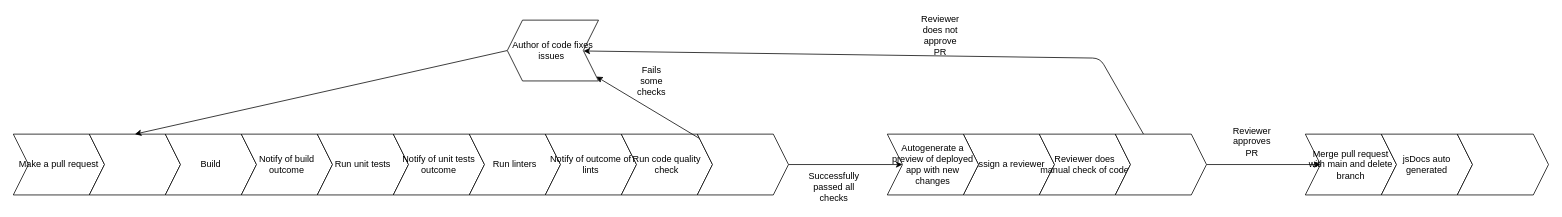
The diagram is 1562 pixels wide and 217 high, and some of its shapes have lost their labels. The centre of each missing label's shape, as x and y in pixels:
Notify of code quality outcome: [742,164]
Reviewer does a manual check that preview deployed functions correctly: [1160,164]
Trigger build: [134,164]
